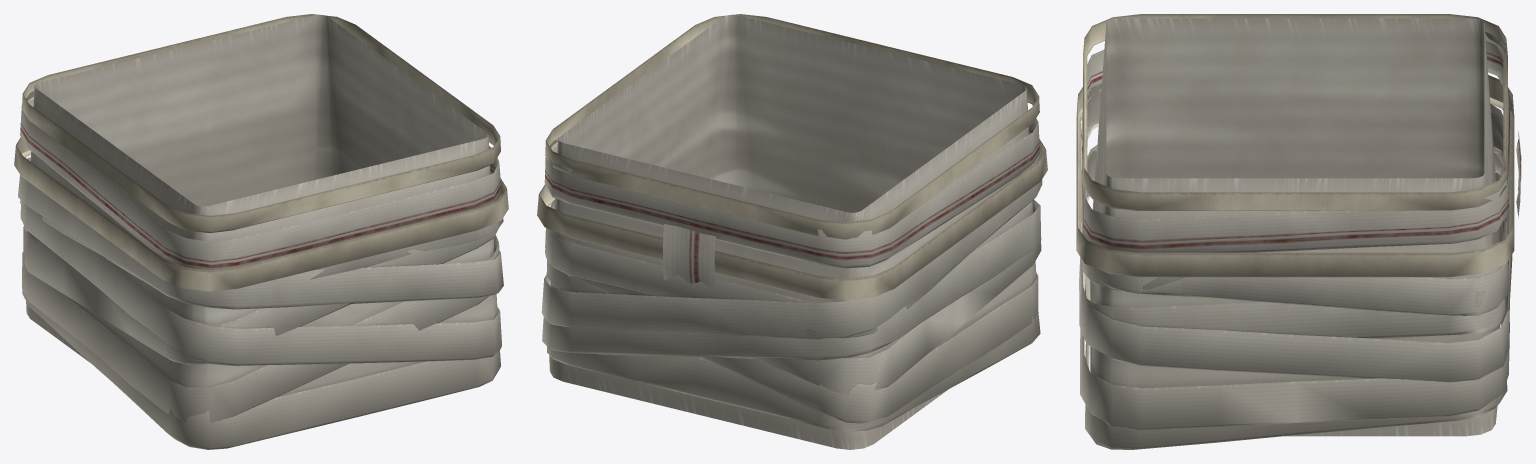
The model's file is NHGear_HandWraps.fbx.
The picture shows the model from 3 angles, left to right: view 1: azimuth 30°, elevation 25°; view 2: azimuth 150°, elevation 25°; view 3: azimuth 270°, elevation 25°; orthographic projection. The views are drawn at different scales.
Parts seen in each view (by area): view 1: NHGear_HandWraps; view 2: NHGear_HandWraps; view 3: NHGear_HandWraps.
Part boxes in pixels (x1,y1,x2,y2): NHGear_HandWraps: (14, 14, 508, 449); NHGear_HandWraps: (537, 14, 1047, 449); NHGear_HandWraps: (1076, 14, 1521, 449).
Bounding box in the file's own units: 1.16 × 0.7843 × 1.18.
1 material, 1 textured.
